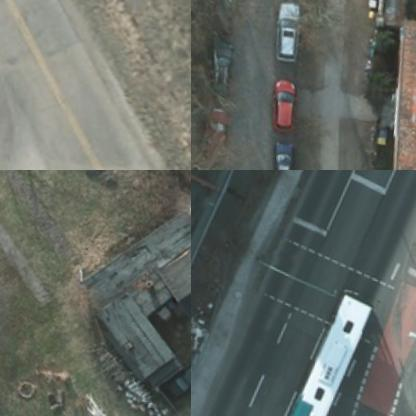car: (267, 0, 307, 63), (201, 42, 240, 99), (196, 108, 234, 163), (263, 76, 297, 126), (156, 355, 190, 405), (260, 134, 297, 169)
